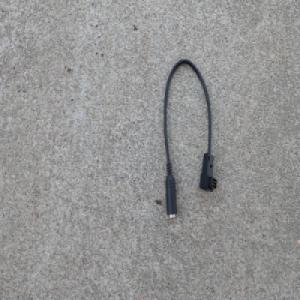Wire: (161, 57, 217, 223)
